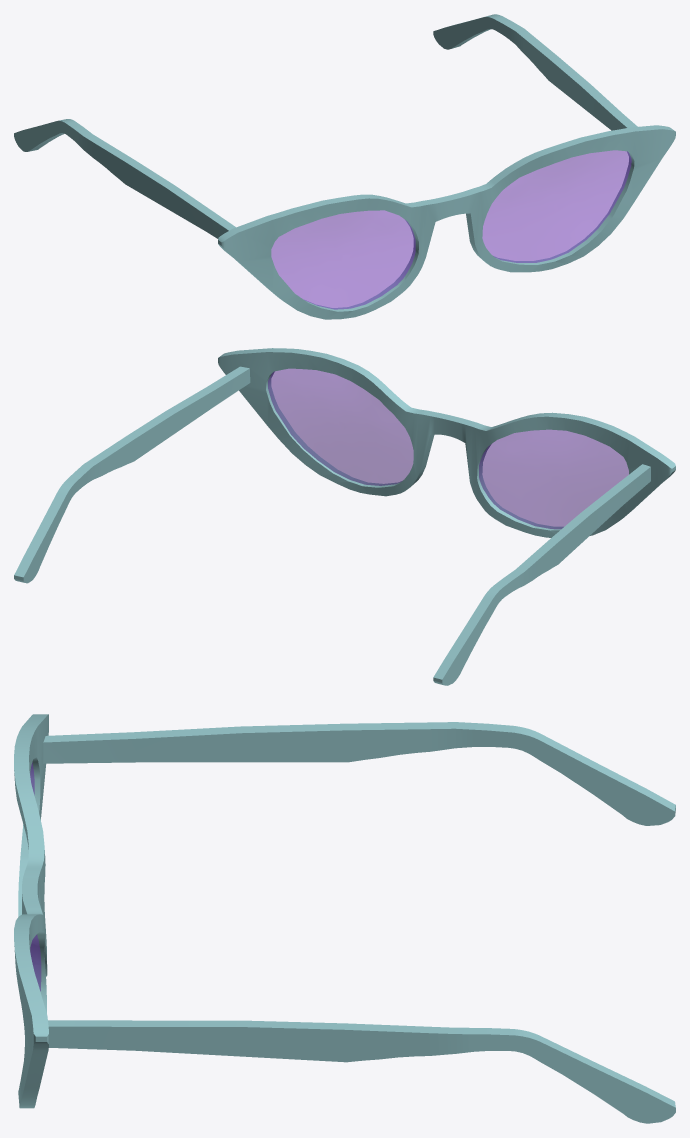
Rendered from glasstest.glb.
The picture shows the model from 3 angles, top to bottom: view 1: azimuth 30°, elevation 25°; view 2: azimuth 150°, elevation 25°; view 3: azimuth 270°, elevation 25°; orthographic projection. The views are drawn at different scales.
Visible parts, largest first — view 1: Object_7.003; view 2: Object_7.003; view 3: Object_7.003.
Boxes of the visible parts, <box> form: Object_7.003: <box>14,14,675,319</box>; Object_7.003: <box>14,348,675,685</box>; Object_7.003: <box>14,714,675,1123</box>.
Bounding box in the file's own units: 6.08 × 1.57 × 5.3.
Materials: 2 (1 with a texture image).
